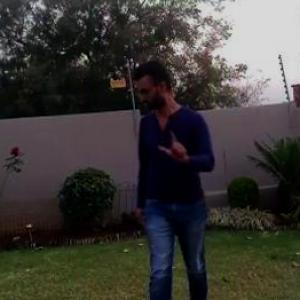land_hand: (157, 121, 197, 164)
